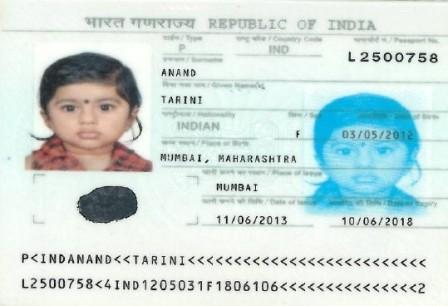DOB: (337, 128, 421, 142)
Surname: (147, 65, 207, 80)
country_code: (258, 41, 291, 58)
date_of_expiry: (336, 212, 422, 227)
date_of_issue: (212, 212, 293, 226)
details: (4, 250, 431, 301)
name: (152, 94, 207, 107)
nationality: (148, 117, 245, 133)
passport_no: (344, 49, 440, 65)
photo: (18, 40, 143, 179)
place_of_birth: (150, 152, 311, 166)
place_of_issue: (214, 180, 261, 194)
sex: (290, 129, 304, 141)
type: (170, 40, 188, 56)
